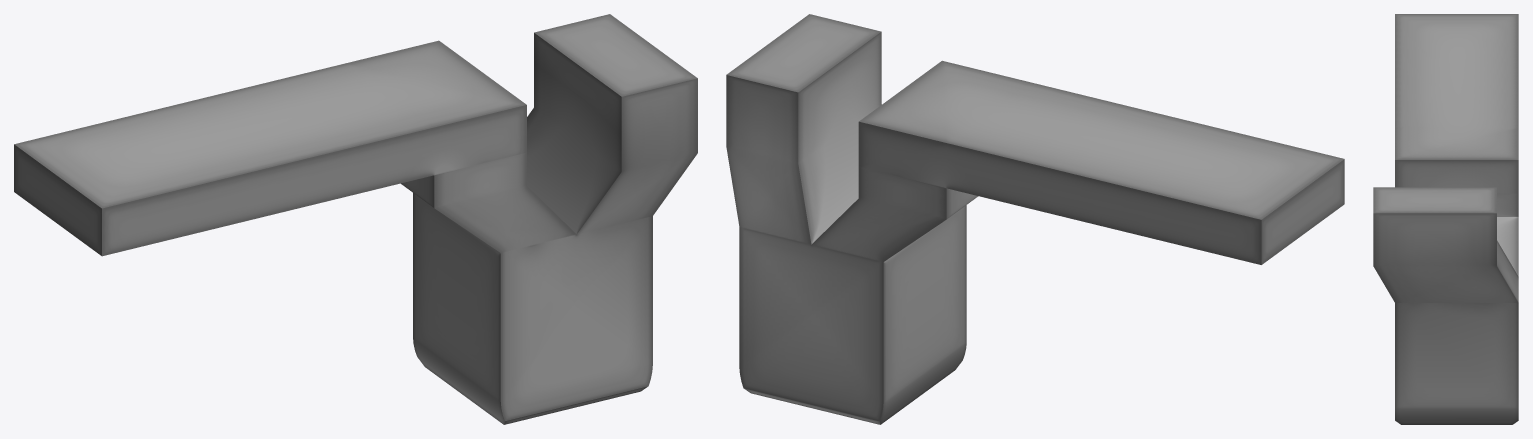
File: Furnace.fbx
The picture shows the model from 3 angles, left to right: view 1: azimuth 30°, elevation 25°; view 2: azimuth 150°, elevation 25°; view 3: azimuth 270°, elevation 25°; orthographic projection. The views are drawn at different scales.
Parts seen in each view (by area): view 1: Furnace; view 2: Furnace; view 3: Furnace.
Boxes of the visible parts, <box> form: Furnace: <box>14,14,697,424</box>; Furnace: <box>726,14,1344,424</box>; Furnace: <box>1373,14,1518,424</box>.
Bounding box in the file's own units: 5.49 × 1.69 × 2.88.
